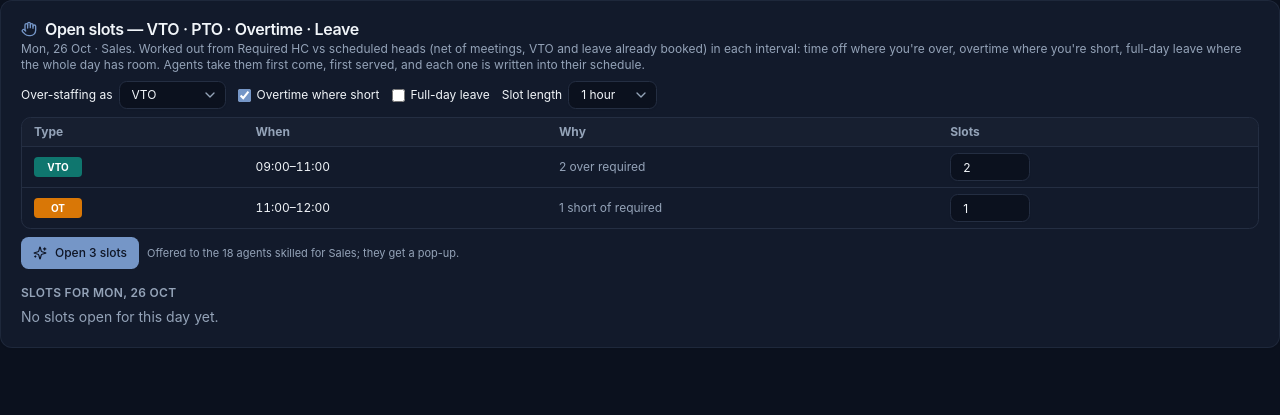
scheduler: open slots › suggests VTO and OT from requirement vs schedule and opens them for skilled agents
The image size is (1280, 415).
Replace the text in the number field named "VTO slots 09:00–11:00" with "1" at (990, 167), box [950,153,1030,181]
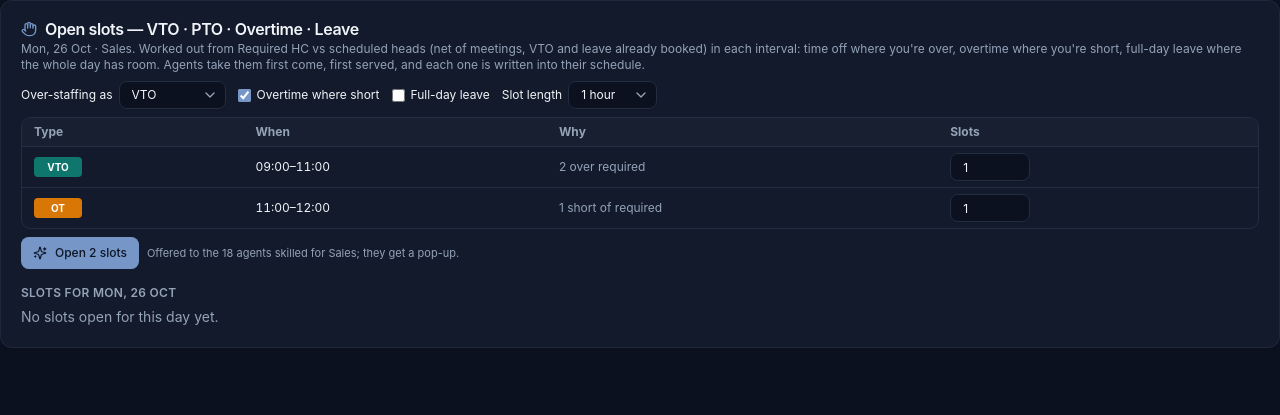
Click the button "Open 2 slots" at (80, 253), box [21,237,139,269]
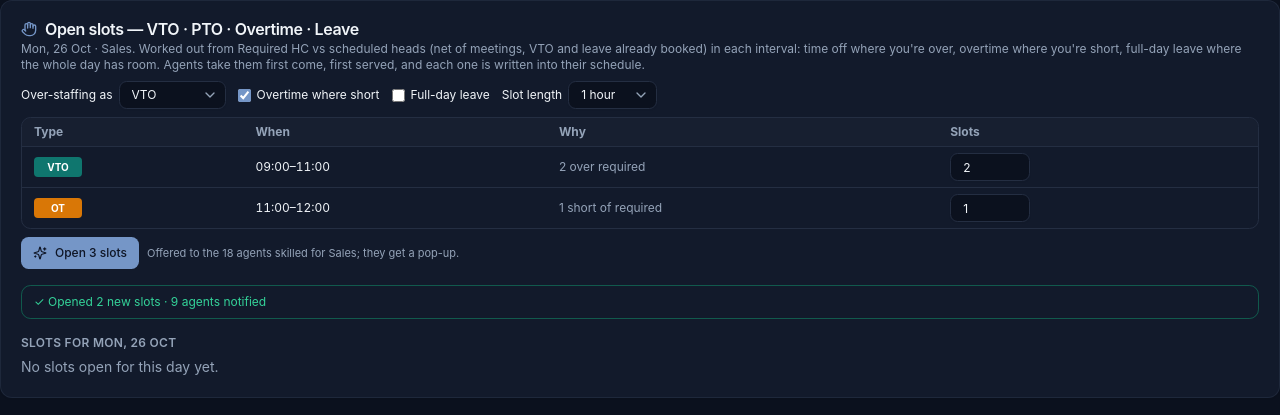
Now the text "✓ Opened 2 new slots · 9 agents notified" is shown, box [21,285,1259,319]
